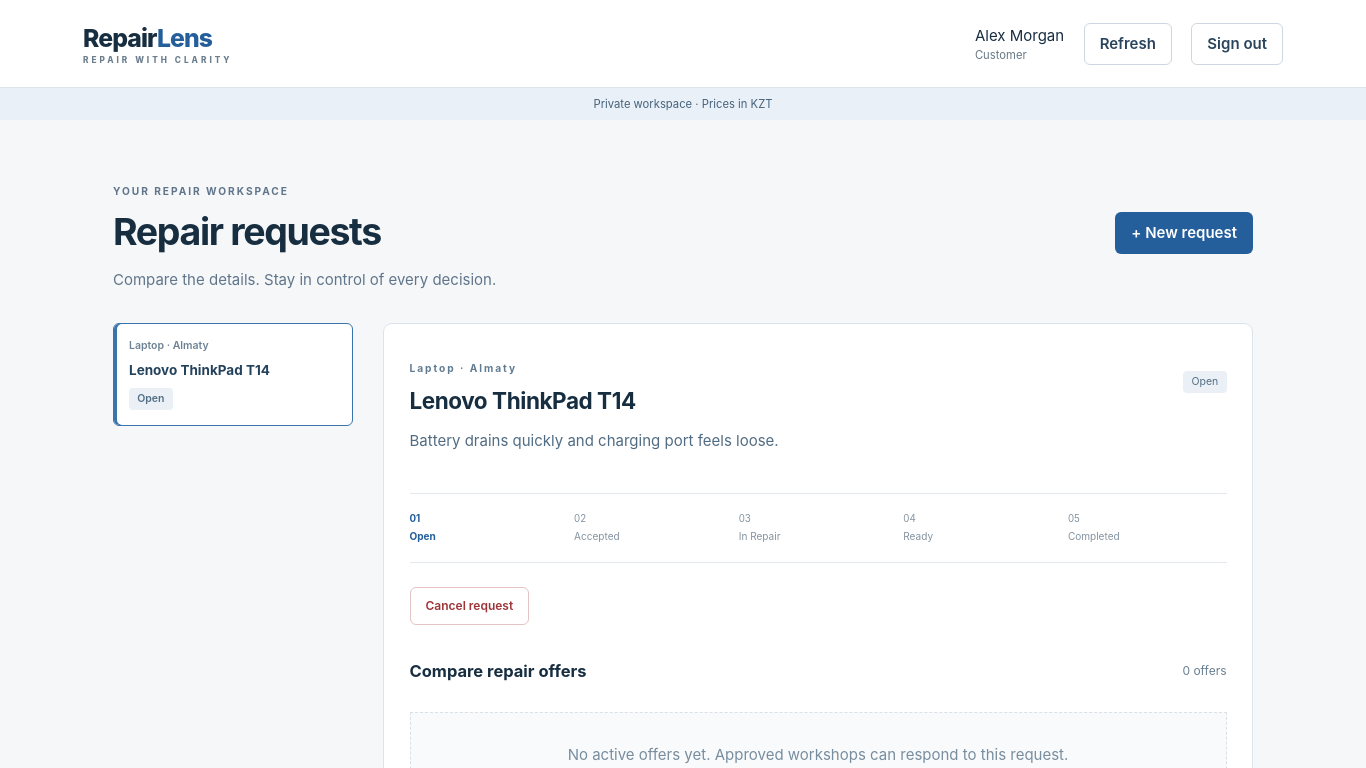
Scenario: refreshes stale state after a conflict and keeps the server explanation visible
Expected: the heading "Repair requests" is shown, [113,209,381,254]
Click the button "Cancel request" at (469, 606), box [410,587,529,625]
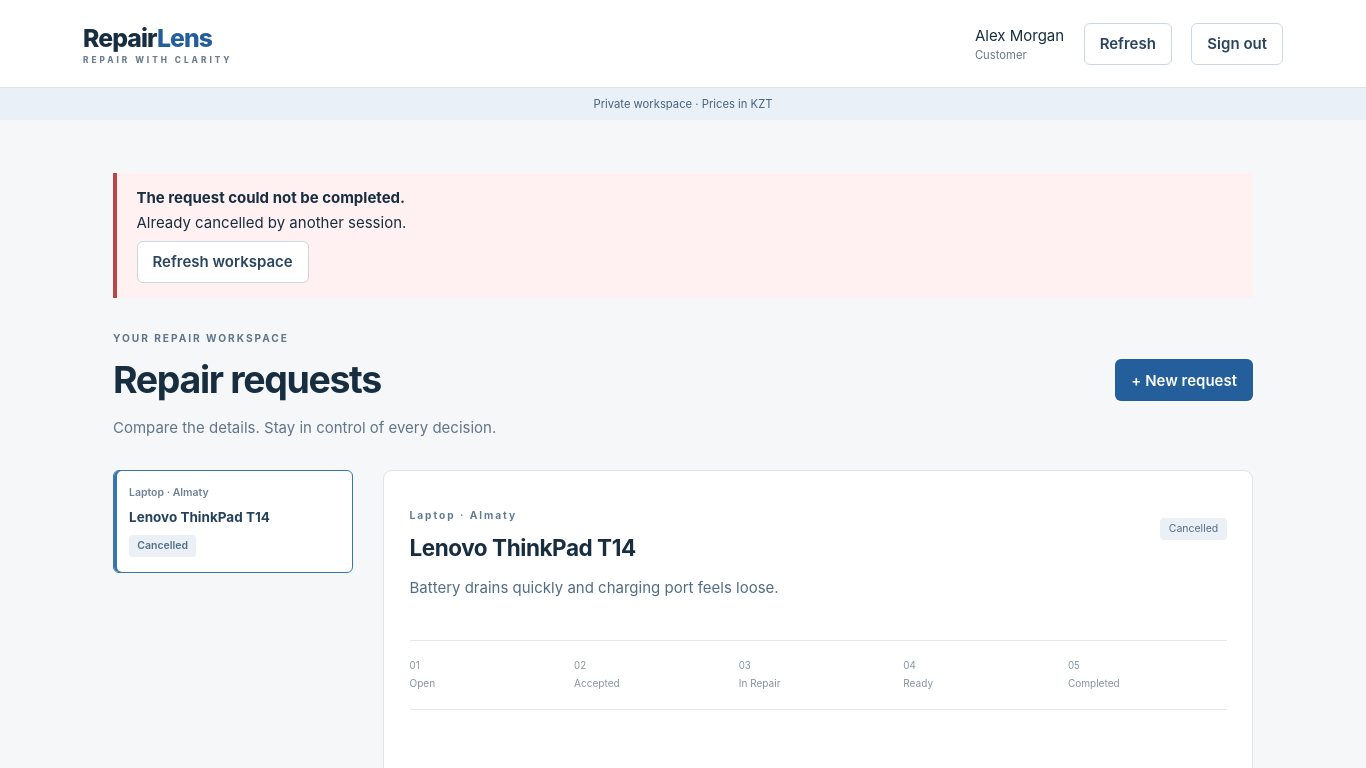
Now the text "Already cancelled by another session." is shown, box [136,213,406,232]
Now the button "Cancel request" is gone
